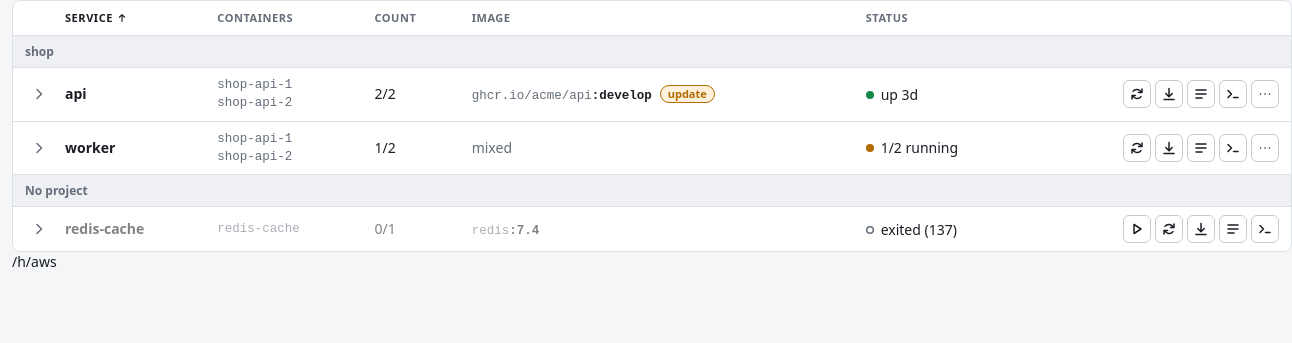
Test: the log under a row › with several containers each line says which one wrote it; with one it does not
Click the button named "Show logs of api": coordinates (39, 94) [25,80,53,108]
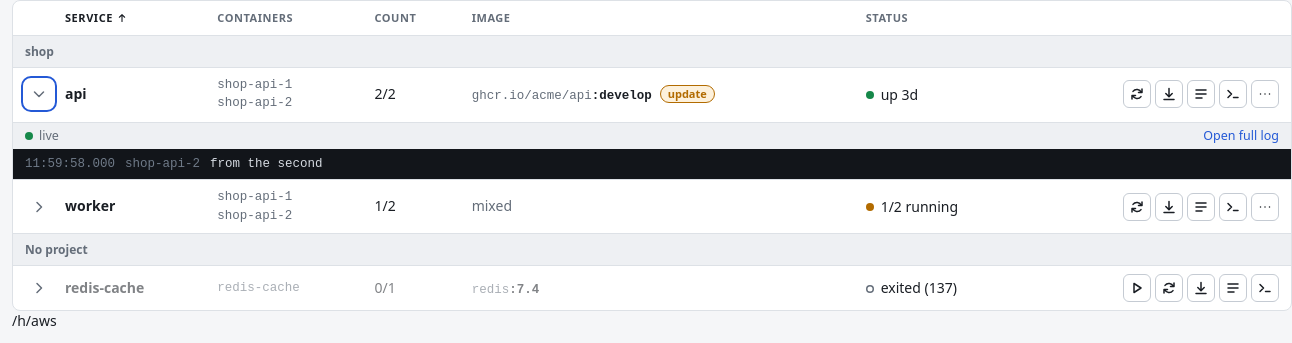
Check: the text "shop-api-2" next to "11:59:58.000" is shown, box [125,157,200,171]
